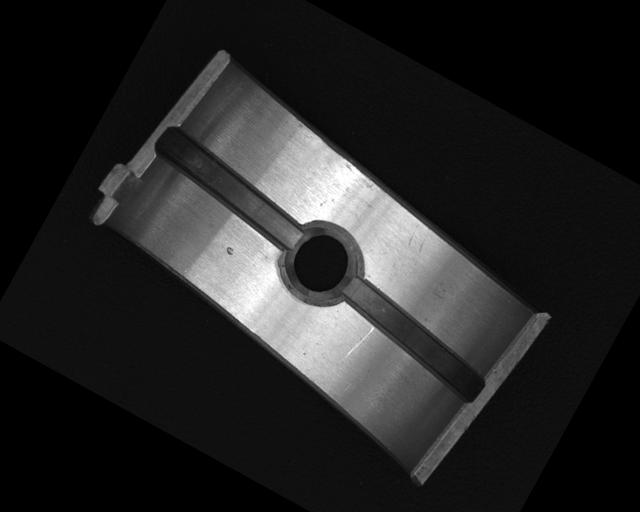bruise: (223, 244, 236, 257)
gap: (324, 272, 501, 405), (142, 123, 318, 252)
hole: (269, 210, 375, 319)
nick: (342, 320, 375, 365)
